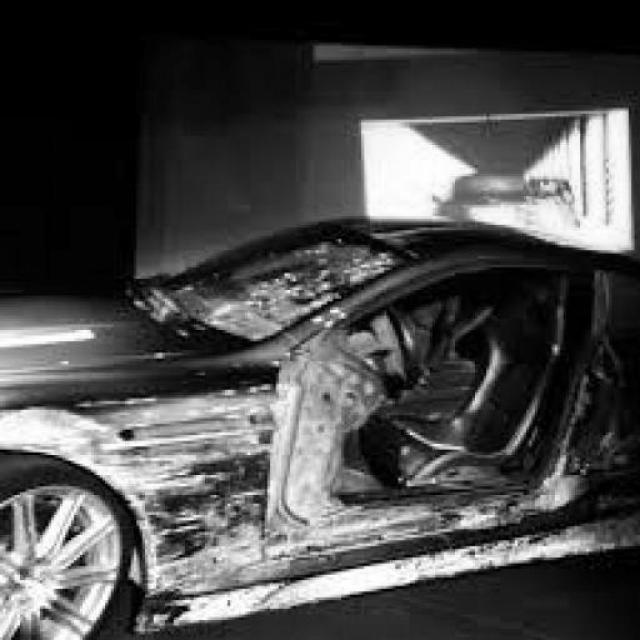crack: (147, 242, 396, 348)
missing: (286, 277, 587, 521)
scratch: (0, 369, 640, 602)
